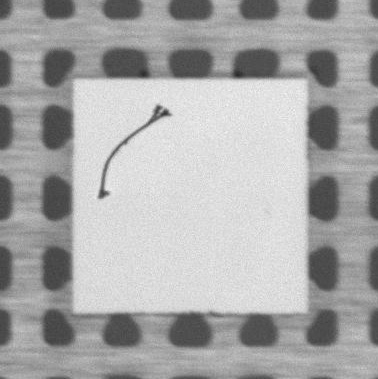DIE_INK: (98, 106, 169, 199)
